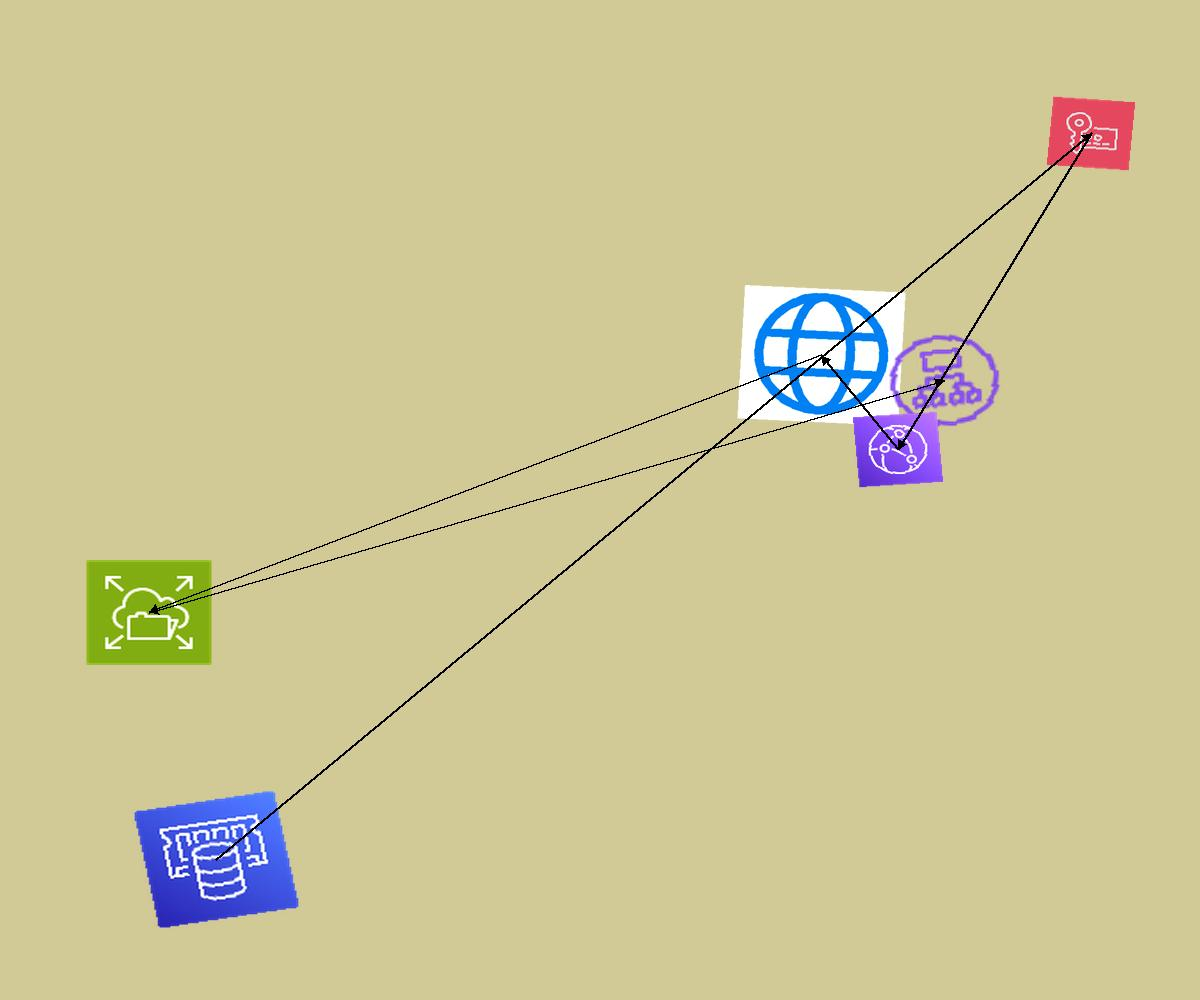AWS-CloudFront: (852, 411, 944, 488)
AWS-EFS: (85, 559, 213, 666)
AWS-ElastiCache: (133, 790, 300, 929)
AWS-Key-Management-Service: (1046, 96, 1136, 171)
AWS-Res_Elastic-Load-Balancing_Application-Load-Balancer: (878, 325, 1011, 436)
Azure_http: (737, 285, 906, 426)
